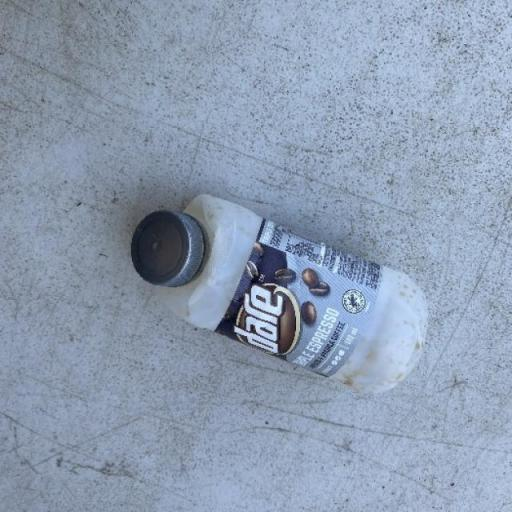plastic: (129, 192, 429, 394)
